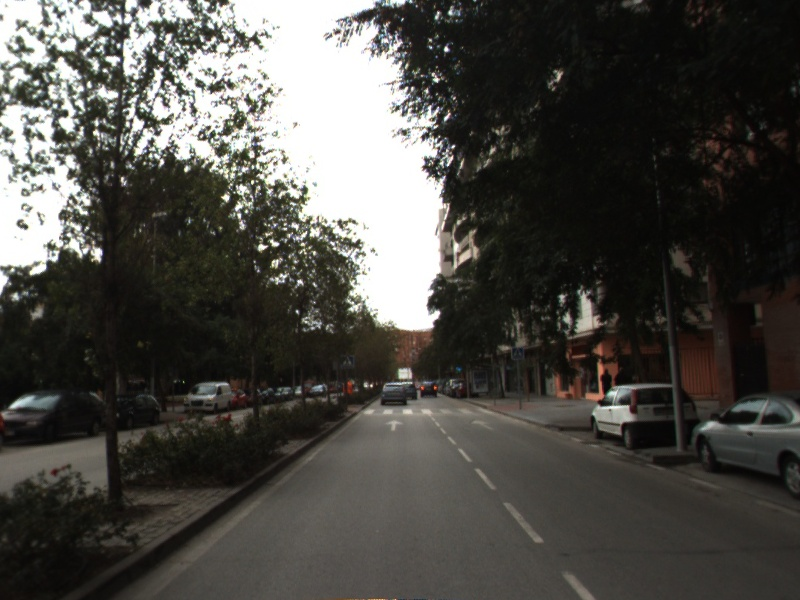STRAIGHT: (469, 417, 497, 432), (383, 418, 406, 433)
